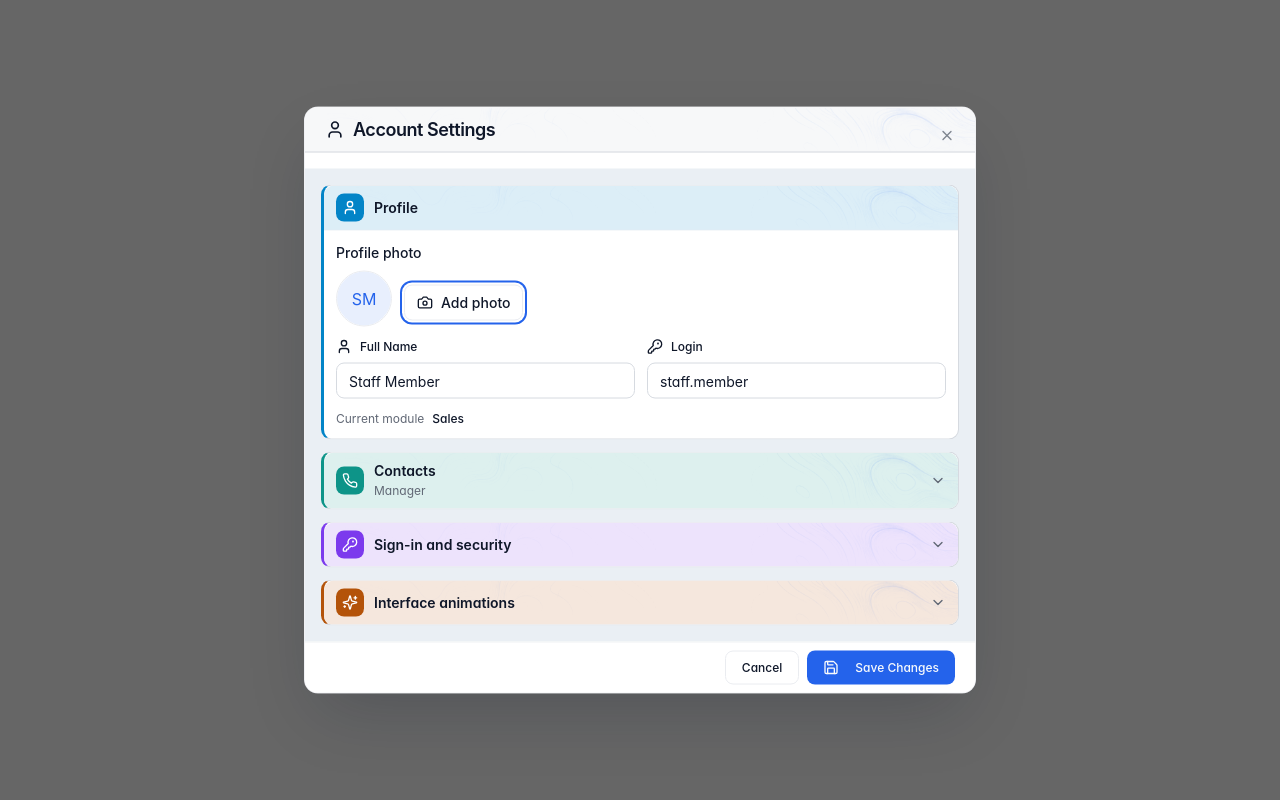
Test: compact account settings › keeps a folded password draft and reveals the current password error before focusing it
Click the button "Sign-in and security" at [443, 544], box [324, 522, 958, 566]
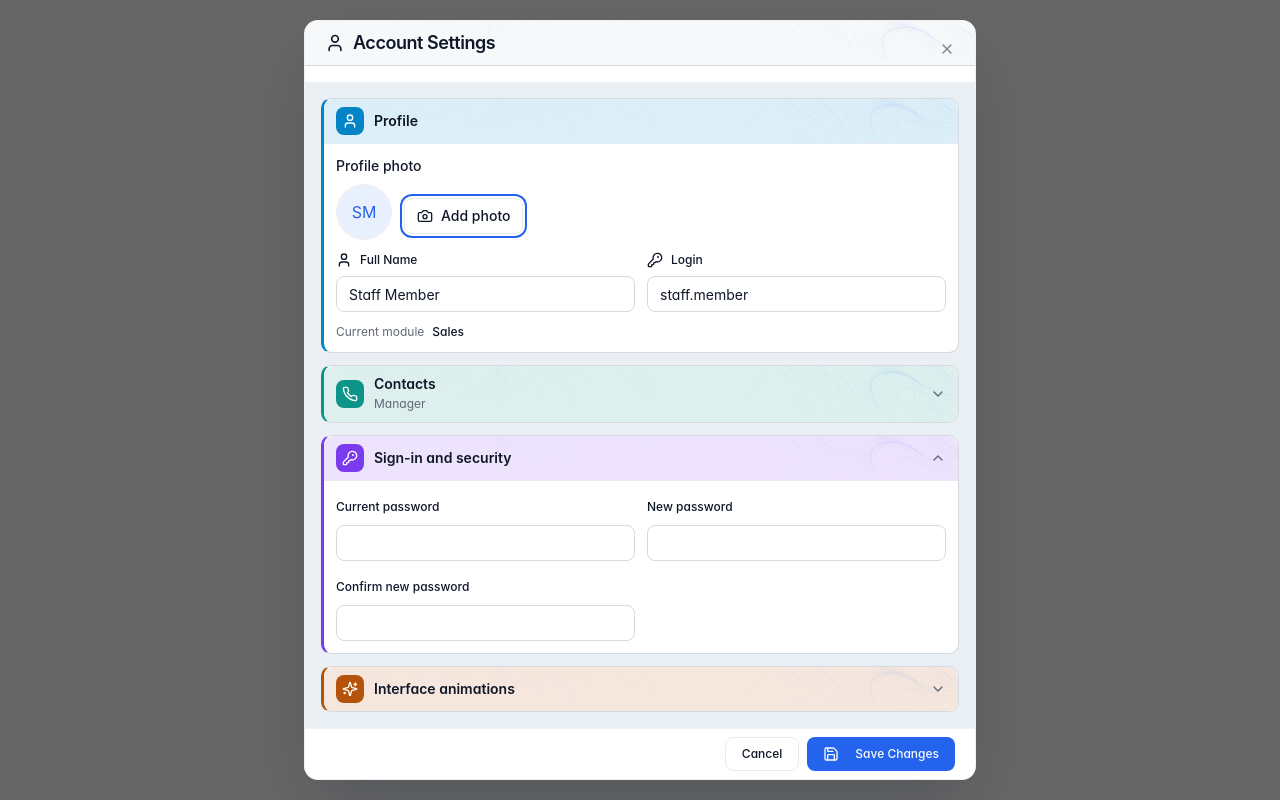
Type "NewSecurePassword123!" into the password field labelled "New password" at [796, 543], box [647, 525, 946, 561]
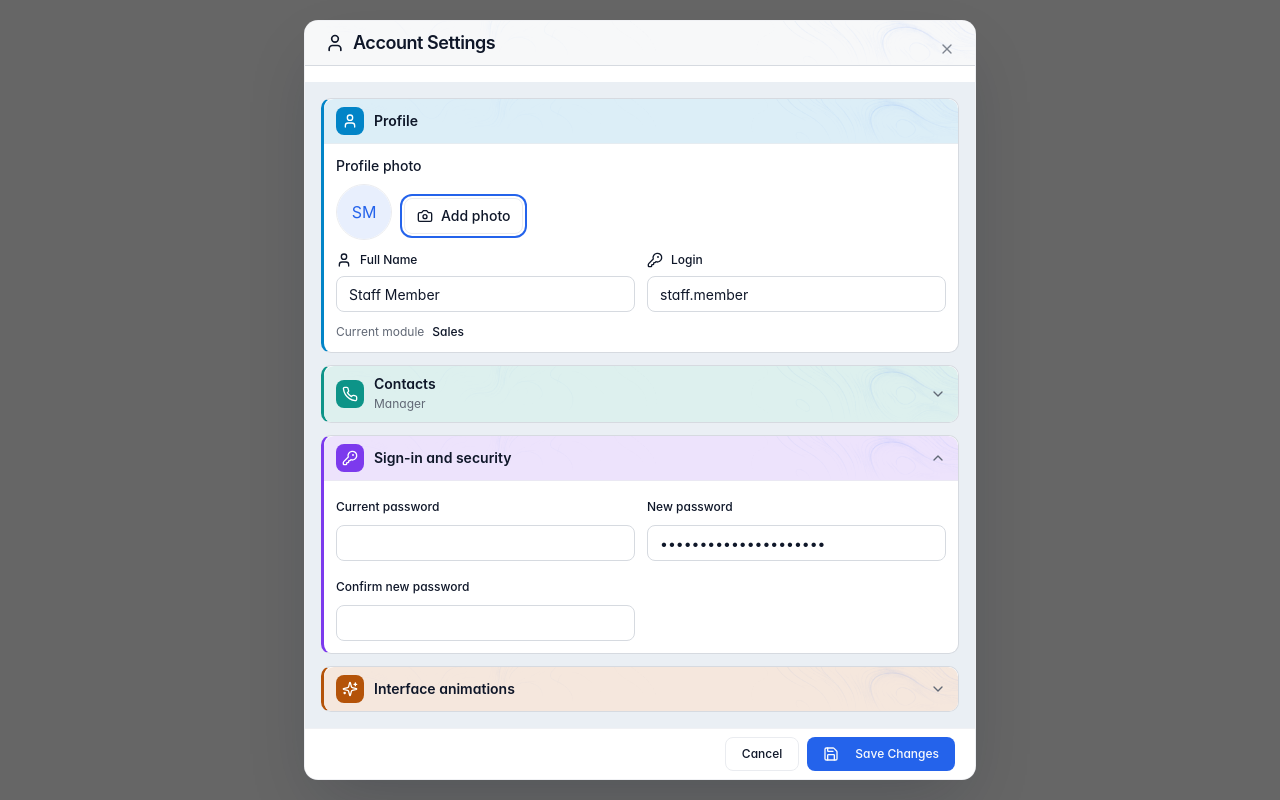
Type "NewSecurePassword123!" into the password field labelled "Confirm new password" at [486, 623], box [336, 605, 635, 641]
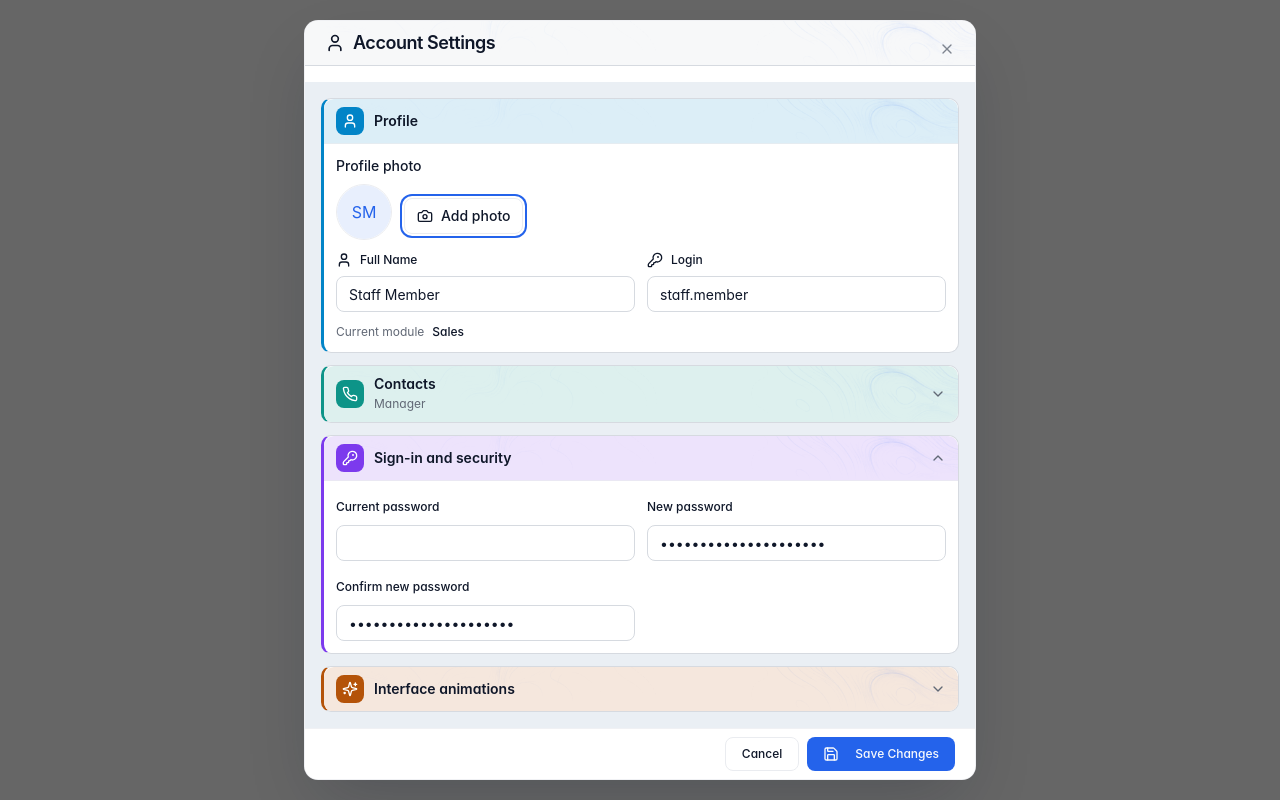
Click the button "Sign-in and security" at [443, 458], box [324, 436, 958, 480]
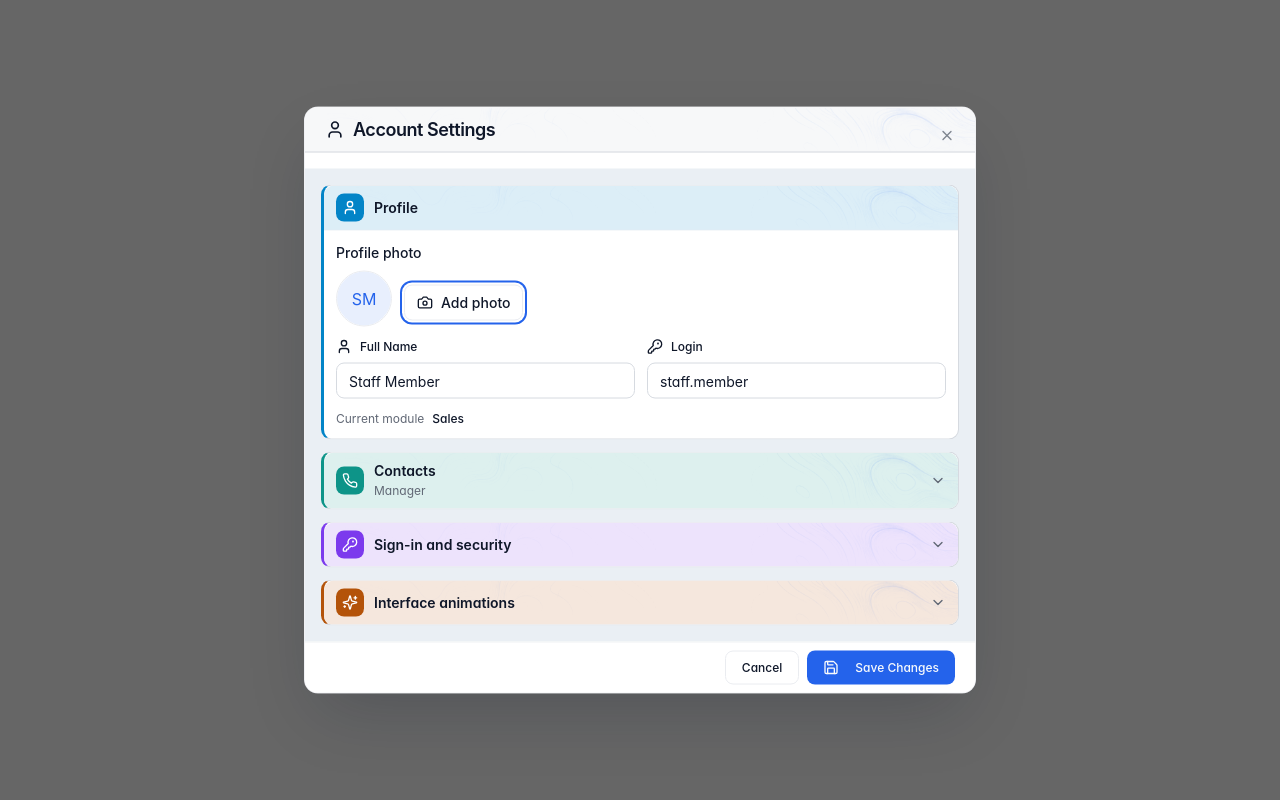
Result: the button "Sign-in and security" is collapsed at [324, 522, 958, 566]
Click the button "Save Changes" at [881, 668], box [807, 650, 955, 684]
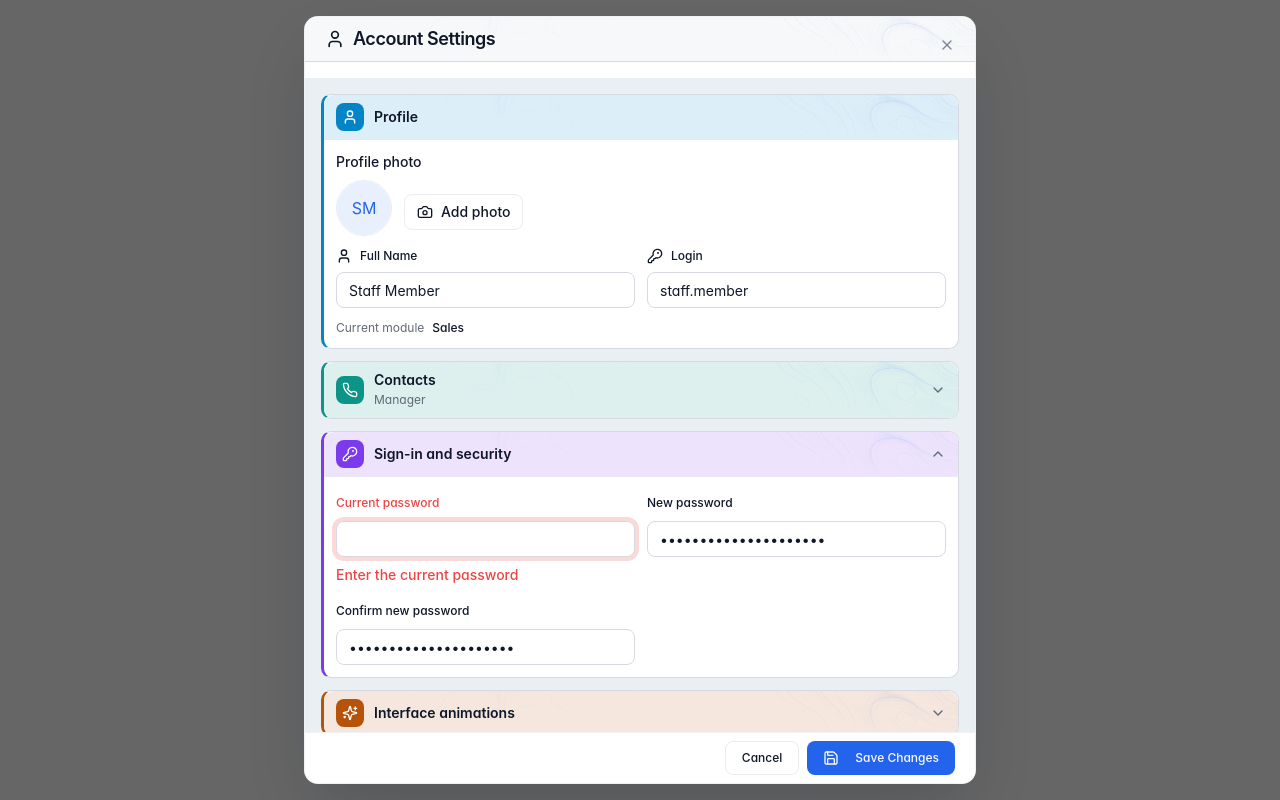
Result: the button "Sign-in and security" is expanded at [324, 432, 958, 476]
